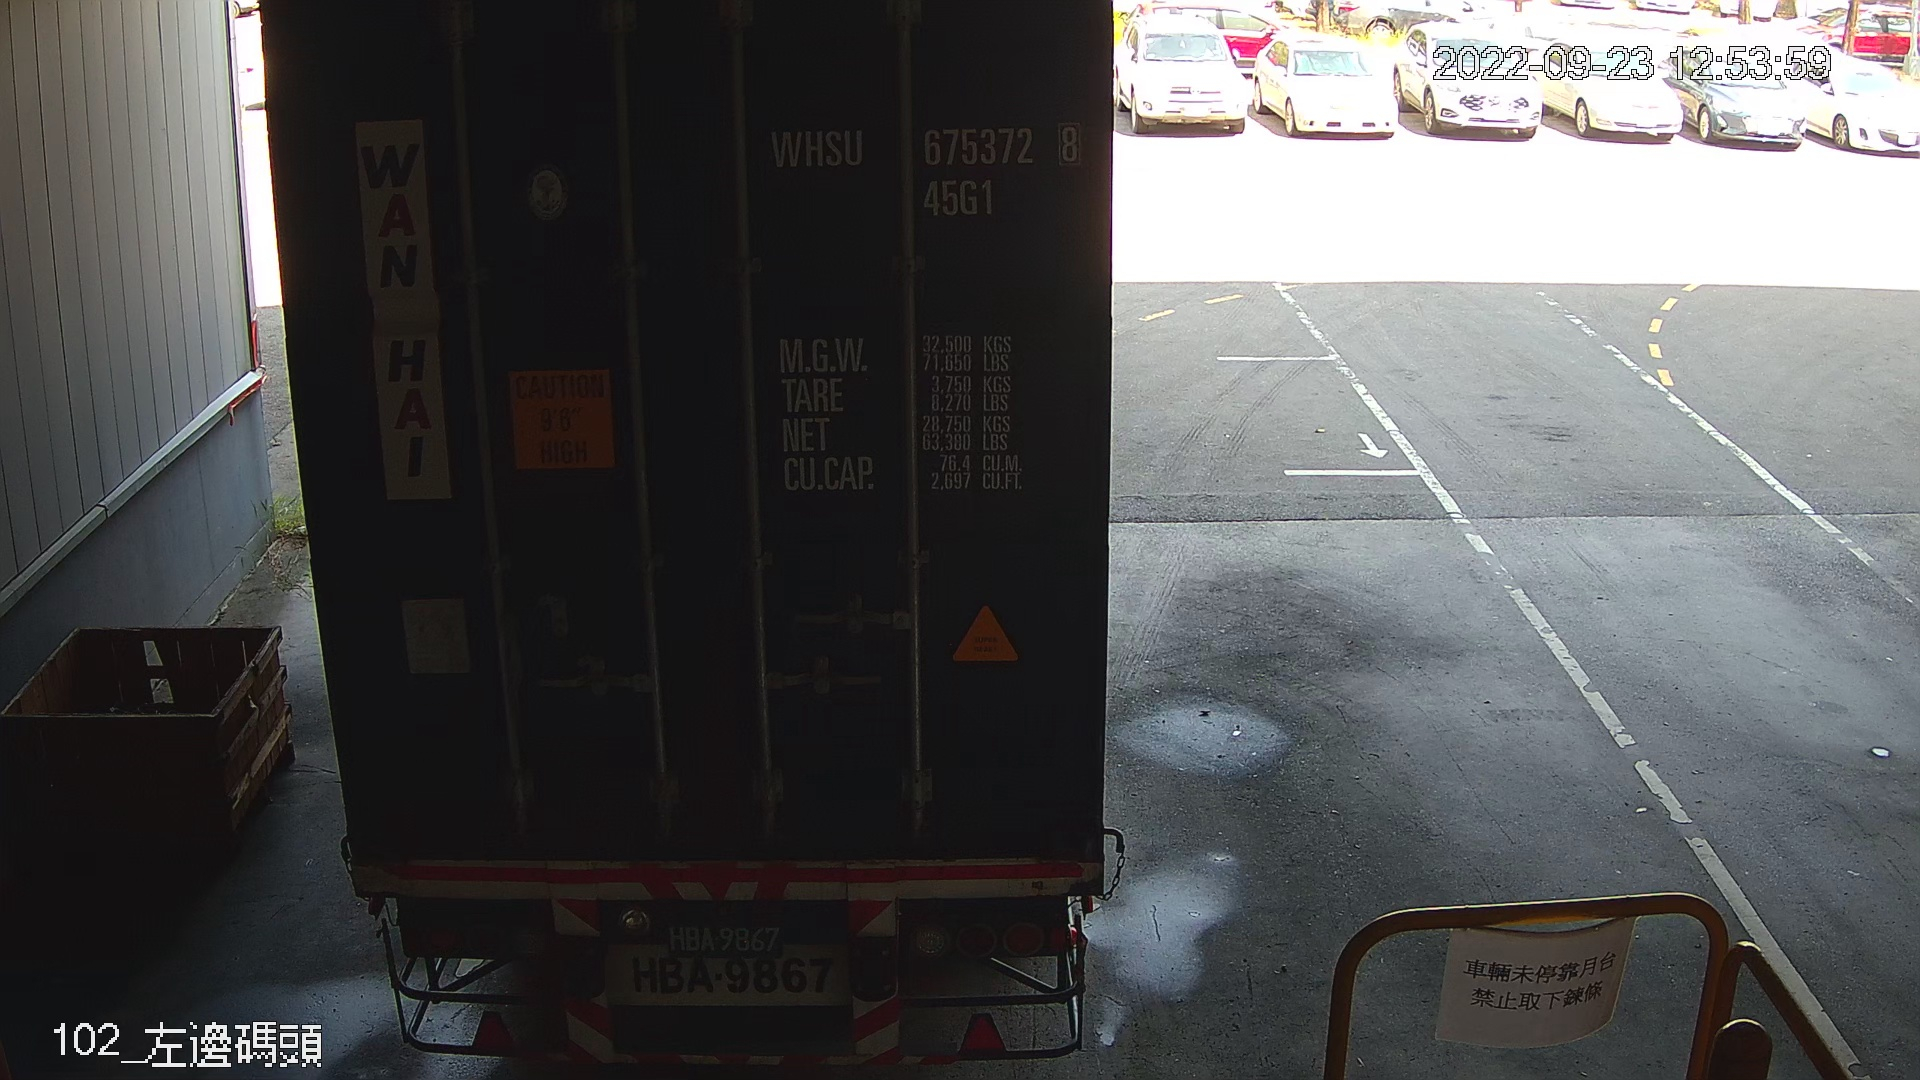container: (752, 113, 1098, 227)
